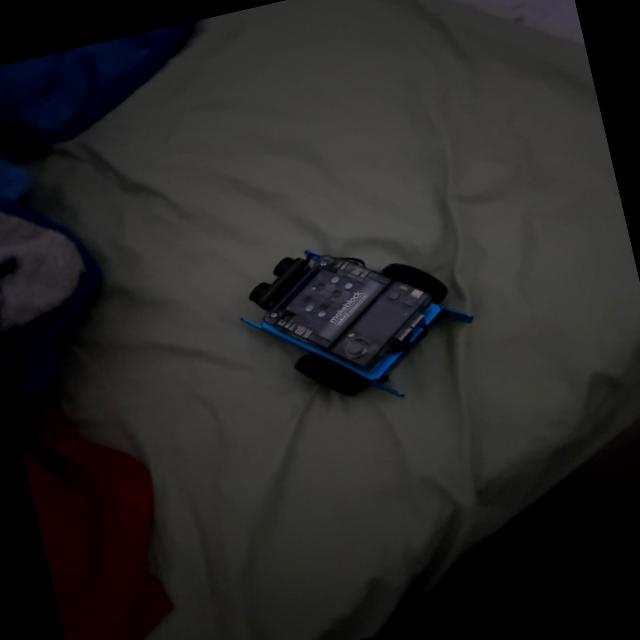mbot-detection: (216, 207, 498, 438)
